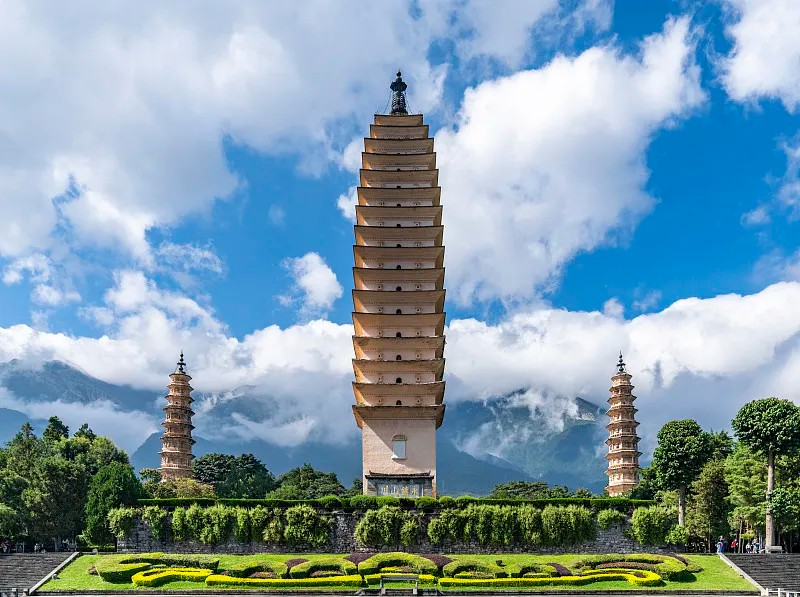ThreePagoda: (352, 68, 445, 499)
